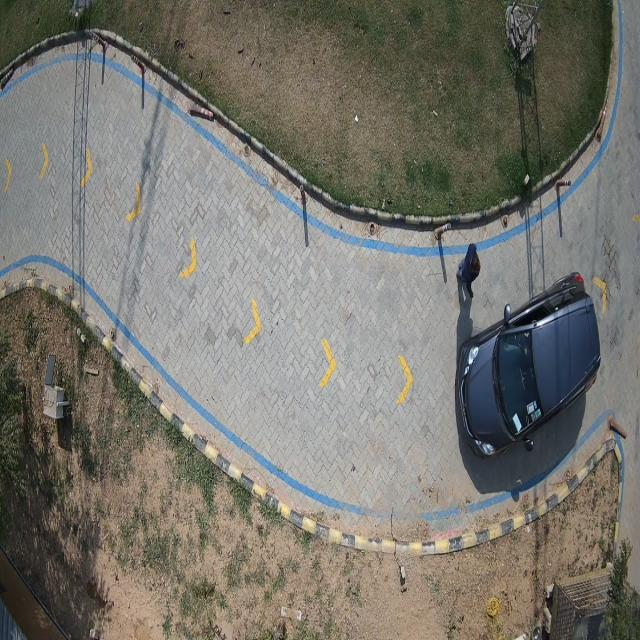car: (456, 273, 600, 457)
